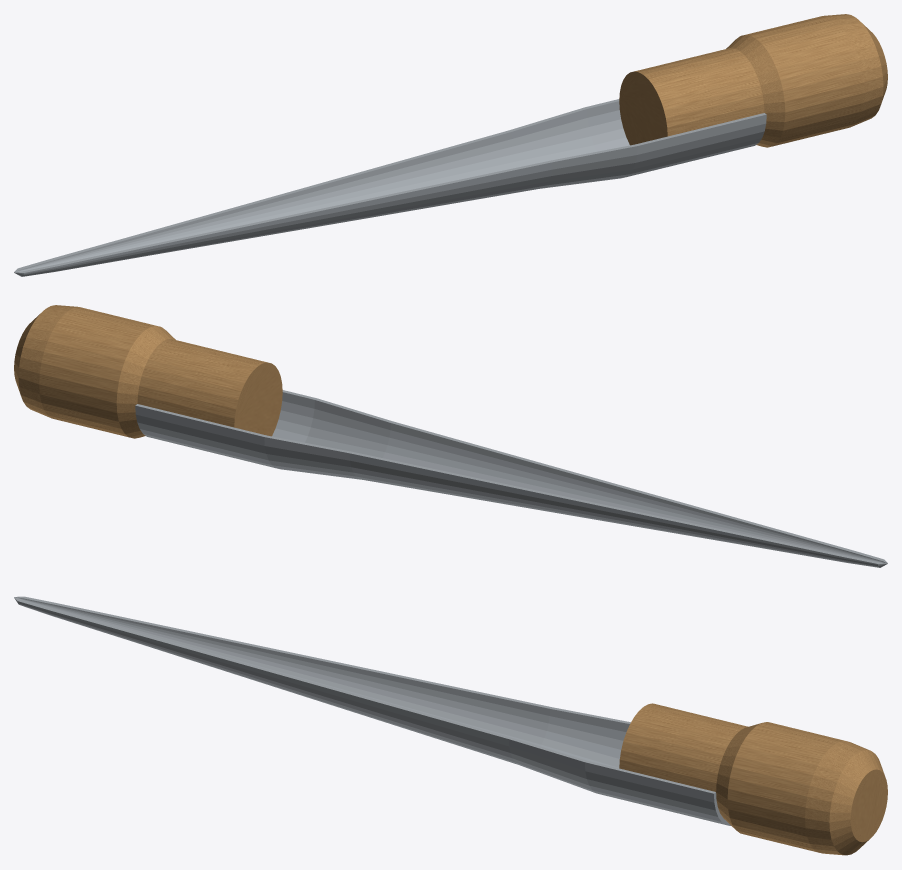
The picture shows the model from 3 angles, top to bottom: view 1: azimuth 30°, elevation 25°; view 2: azimuth 150°, elevation 25°; view 3: azimuth 330°, elevation 25°; orthographic projection.
Parts seen in each view (by area): view 1: NEW669_StainlessChannel, NEW669_WoodenHandle; view 2: NEW669_StainlessChannel, NEW669_WoodenHandle; view 3: NEW669_StainlessChannel, NEW669_WoodenHandle.
Part boxes in pixels (x1,y1,x2,y2): NEW669_StainlessChannel: (14, 99, 766, 276); NEW669_WoodenHandle: (619, 14, 887, 147); NEW669_StainlessChannel: (135, 390, 887, 567); NEW669_WoodenHandle: (14, 305, 282, 438); NEW669_StainlessChannel: (14, 596, 730, 825); NEW669_WoodenHandle: (619, 703, 887, 855).
Size of the model in its own units: 0.265 by 0.031 by 0.031.
Materials: 2 (1 with a texture image).
